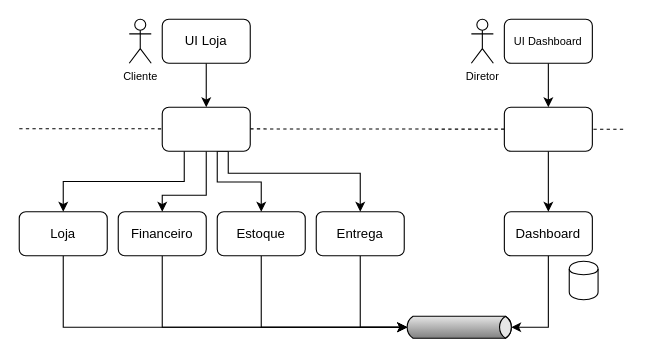
Image size: 645x358. Some labels were removed from this diagram. The shapes that lost their labels are listed below. From the top down, each one's box as (x1, y1, x2, y2) in pixels, then its label:
(161, 106, 250, 151): BFF Loja
(503, 106, 592, 151): BFF Dashboard
(568, 260, 598, 300): BD
